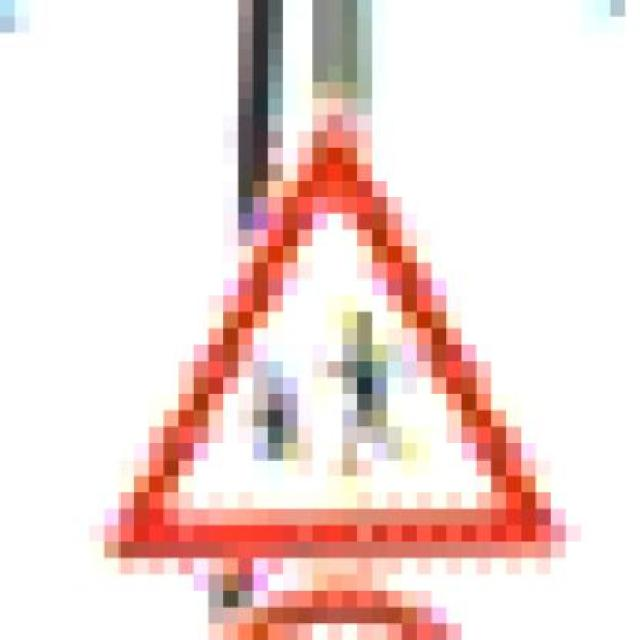Beware of children: (74, 98, 580, 574)
